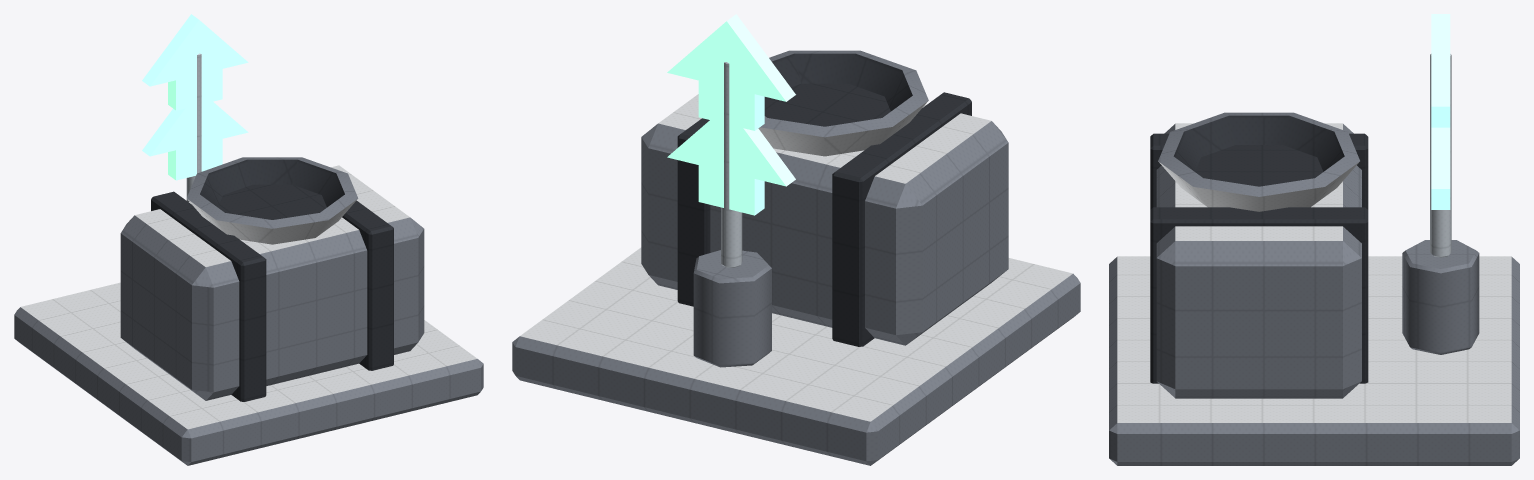
The model's file is R4X_CargoUplink_LOD1.glb.
3 views of the same model, side by side, from view 1: azimuth 30°, elevation 25°; view 2: azimuth 150°, elevation 25°; view 3: azimuth 270°, elevation 25° (orthographic). The views are drawn at different scales.
Parts seen in each view (by area): view 1: R4X_CargoUplink_LOD1; view 2: R4X_CargoUplink_LOD1; view 3: R4X_CargoUplink_LOD1.
Part boxes in pixels (left/top/right/bottom): R4X_CargoUplink_LOD1: left=14, top=14, right=483, bottom=465; R4X_CargoUplink_LOD1: left=512, top=14, right=1080, bottom=465; R4X_CargoUplink_LOD1: left=1109, top=14, right=1519, bottom=465.
Bounding box in the file's own units: 0.52 × 0.515 × 0.52.
Materials: 5 (4 with a texture image).
